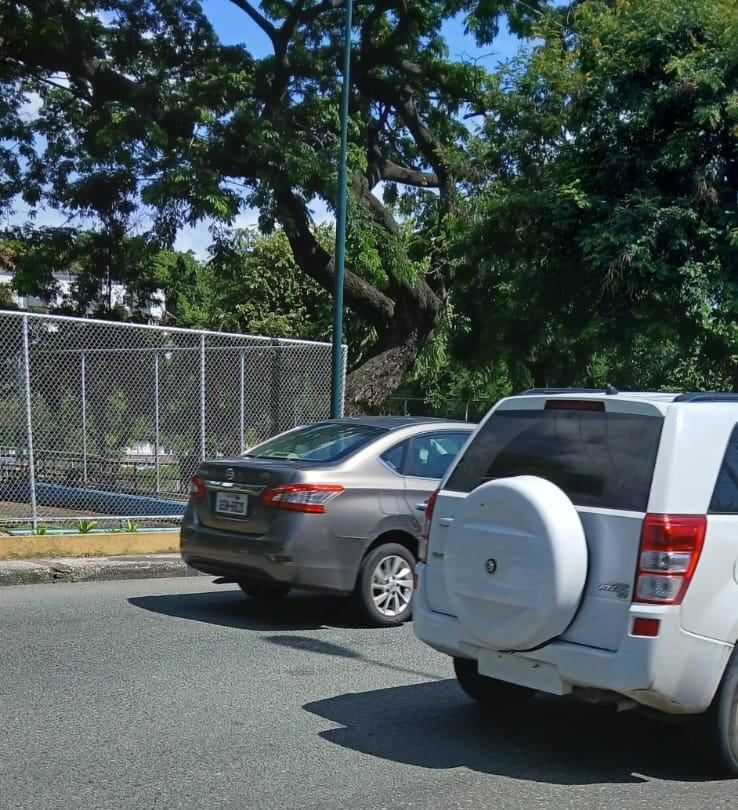license_plate: (213, 490, 249, 515)
